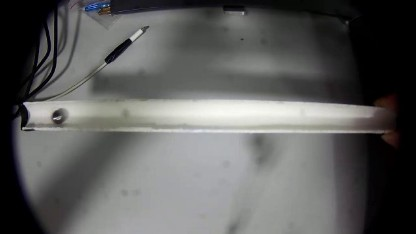gangzhu: (47, 108, 68, 125)
